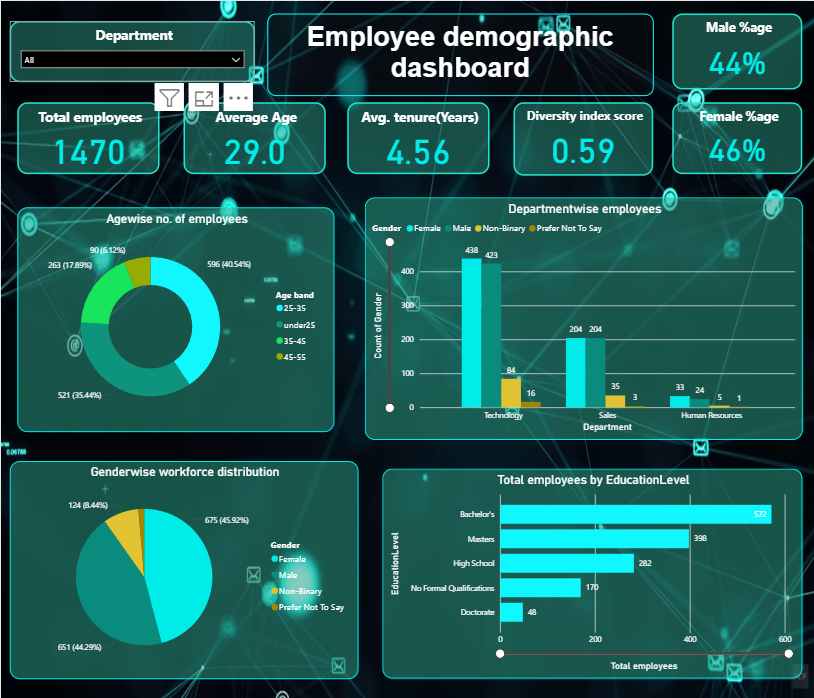

What the dashboard file says about the page in this screenshot:
{"tool":"powerbi","page":{"name":"General overview","canvas":[1280,1100],"ordinal":0},"visuals":[{"type":"card","title":"Total employees ","fields":{"Values":["Measure table.Total employees"]},"box":[25.5,159.6,223.4,112.8],"z":0},{"type":"card","title":"Diversity index score ","fields":{"Values":["Measure table.diversity index score"]},"box":[804.3,159.6,219.1,114.9],"z":1000},{"type":"card","title":"Avg. tenure(Years)","fields":{"Values":["Avg(Employee.Tenure (years))"]},"box":[542.6,159.6,223.4,112.8],"z":2000},{"type":"card","title":"Average Age","fields":{"Values":["Avg(Employee.Age)"]},"box":[287.2,159.6,223.4,112.8],"z":3000},{"type":"card","title":"Male %age","fields":{"Values":["Measure table.male%"]},"box":[1053.2,19.1,204.3,119.1],"z":4000},{"type":"card","title":"Female %age","fields":{"Values":["Measure table.female%"]},"box":[1053.2,159.6,204.3,112.8],"z":5000},{"type":"clusteredColumnChart","title":"Departmentwise employees","fields":{"Category":["Employee.Department"],"Y":["CountNonNull(Employee.Gender)"],"Series":["Employee.Gender"]},"box":[570.2,308.5,687.2,380.9],"z":6000},{"type":"donutChart","title":"Agewise no. of employees ","fields":{"Y":["Measure table.Total employees"],"Category":["Employee.Age band"]},"box":[25.5,323.4,497.9,353.2],"z":7000},{"type":"barChart","fields":{"Category":["EducationLevel.EducationLevel"],"Y":["Measure table.Total employees"]},"box":[597.9,734,659.6,329.8],"z":8000},{"type":"pieChart","title":"Genderwise workforce distribution","fields":{"Y":["CountNonNull(Employee.Workforce distribution)"],"Category":["Employee.Gender"]},"box":[12.8,721.3,546.8,342.6],"z":8001},{"type":"slicer","title":"Department ","fields":{"Values":["Employee.Department"]},"box":[12.8,31.9,385.1,95.7],"z":8002},{"type":"textbox","box":[417,19.1,606.4,129.8],"z":8003}]}

Visuals, with their boxes in screenshot pixels (x1, y1, x2, y2), scaled from the page's 1280x1100 canvas onto the 814x698 screenshot:
"Total employees " card: 16,101,158,173
"Diversity index score " card: 511,101,651,174
"Avg. tenure(Years)" card: 345,101,487,173
"Average Age" card: 183,101,325,173
"Male %age" card: 670,12,800,88
"Female %age" card: 670,101,800,173
"Departmentwise employees" clusteredColumnChart: 363,196,800,437
"Agewise no. of employees " donutChart: 16,205,333,429
barChart - EducationLevel.EducationLevel x Measure table.Total employees: 380,466,800,675
"Genderwise workforce distribution" pieChart: 8,458,356,675
"Department " slicer: 8,20,253,81
textbox: 265,12,651,94
